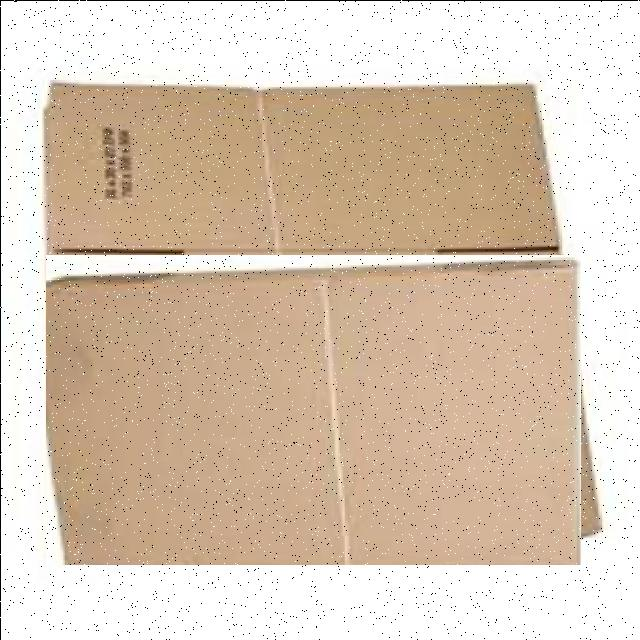normal: (45, 253, 580, 564)
